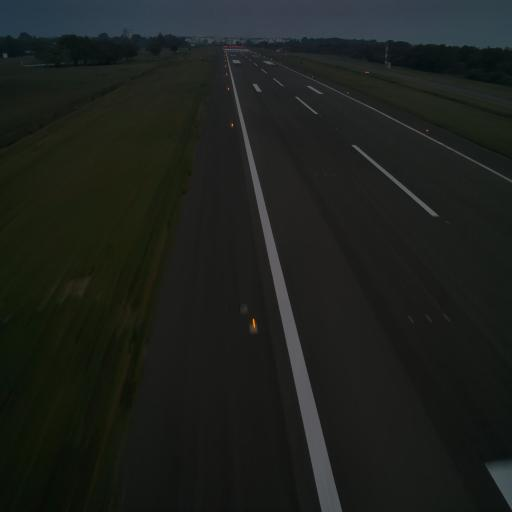off: (404, 311, 416, 330), (424, 310, 433, 328), (444, 311, 452, 328), (444, 214, 450, 228), (332, 172, 338, 180), (323, 170, 328, 179), (314, 170, 318, 178)
on: (248, 318, 259, 339), (425, 126, 429, 135)
